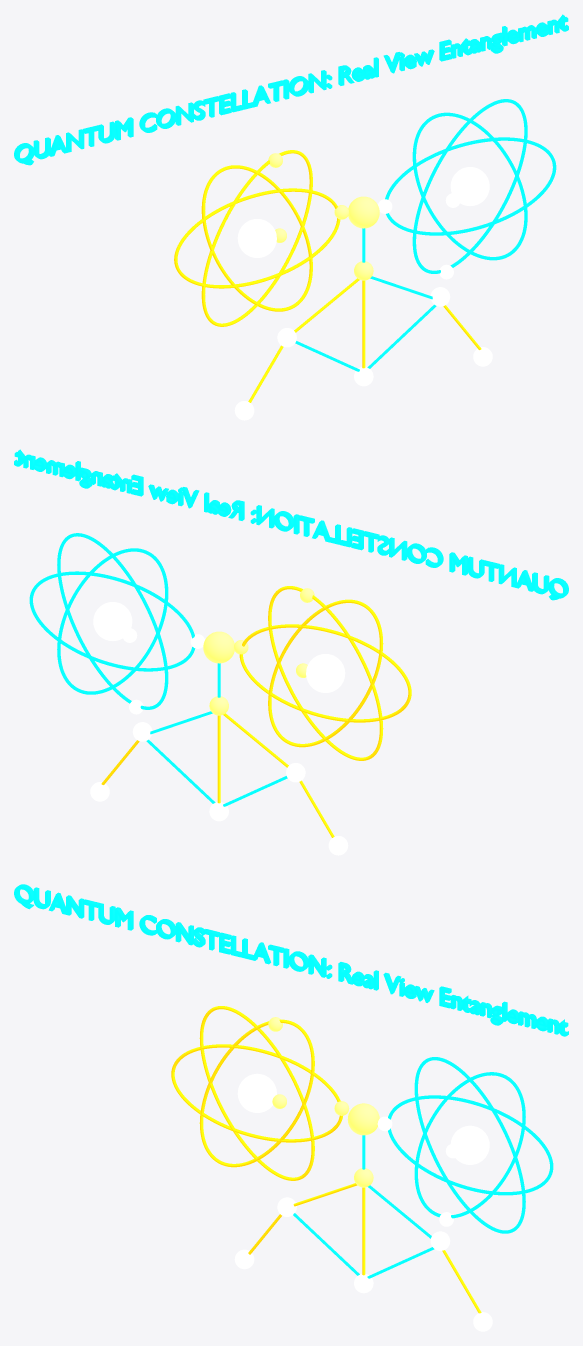
File: quantum_constellation.glb
3 renders of one model, top to bottom at view 1: azimuth 30°, elevation 25°; view 2: azimuth 150°, elevation 25°; view 3: azimuth 330°, elevation 25°, orthographic.
Parts seen in each view (by area): view 1: Text, Ring_2.5_2, Ring_-2.5_2, Ring_2.5_0, Ring_2.5_1, Ring_-2.5_0, Ring_-2.5_1, Sphere, Sphere.004, Sphere.008; view 2: Text, Ring_-2.5_2, Ring_2.5_2, Ring_-2.5_0, Ring_2.5_0, Ring_-2.5_1, Ring_2.5_1, Sphere, Sphere.004, Sphere.008; view 3: Text, Ring_-2.5_1, Ring_2.5_1, Ring_-2.5_0, Ring_2.5_0, Ring_-2.5_2, Ring_2.5_2, Sphere.004, Sphere, Sphere.008.
Boxes of the visible parts, x1,y1,x2,y2 form: Text: (14, 14, 568, 165); Ring_2.5_2: (412, 99, 527, 273); Ring_-2.5_2: (201, 150, 312, 326); Ring_2.5_0: (385, 137, 556, 235); Ring_2.5_1: (412, 112, 527, 260); Ring_-2.5_0: (174, 188, 340, 288); Ring_-2.5_1: (201, 165, 312, 311); Sphere: (237, 219, 276, 257); Sphere.004: (450, 167, 489, 205); Sphere.008: (348, 196, 379, 228); Text: (14, 449, 568, 600); Ring_-2.5_2: (268, 586, 383, 760); Ring_2.5_2: (57, 533, 168, 709); Ring_-2.5_0: (239, 624, 411, 722); Ring_2.5_0: (29, 571, 195, 671); Ring_-2.5_1: (268, 599, 383, 747); Ring_2.5_1: (57, 548, 168, 694); Sphere: (306, 654, 345, 692); Sphere.004: (93, 602, 132, 640); Sphere.008: (203, 631, 234, 663); Text: (14, 884, 568, 1036); Ring_-2.5_1: (199, 1006, 314, 1180); Ring_2.5_1: (414, 1057, 525, 1233); Ring_-2.5_0: (171, 1044, 342, 1142); Ring_2.5_0: (388, 1095, 553, 1195); Ring_-2.5_2: (199, 1019, 314, 1167); Ring_2.5_2: (414, 1072, 525, 1218); Sphere.004: (450, 1125, 489, 1164); Sphere: (237, 1073, 276, 1112); Sphere.008: (347, 1103, 379, 1135).
Size of the model in its own units: 12.98 by 7.49 by 0.8.
